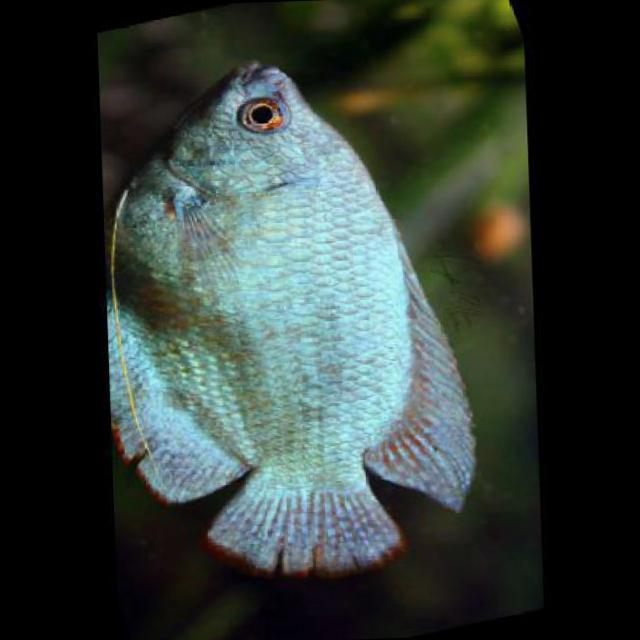Gourami: (99, 50, 489, 589)
